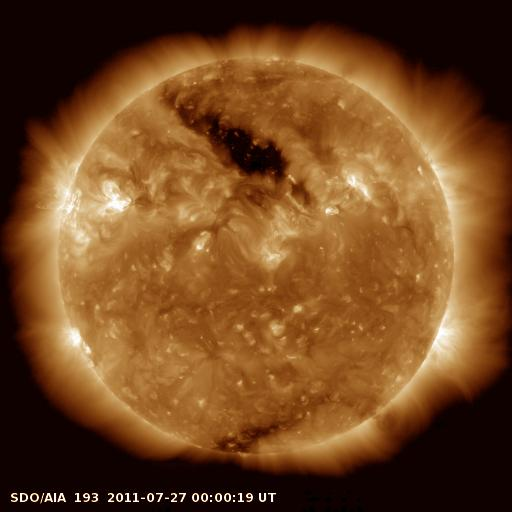coronal_hole: (165, 93, 287, 183), (206, 419, 287, 457)
